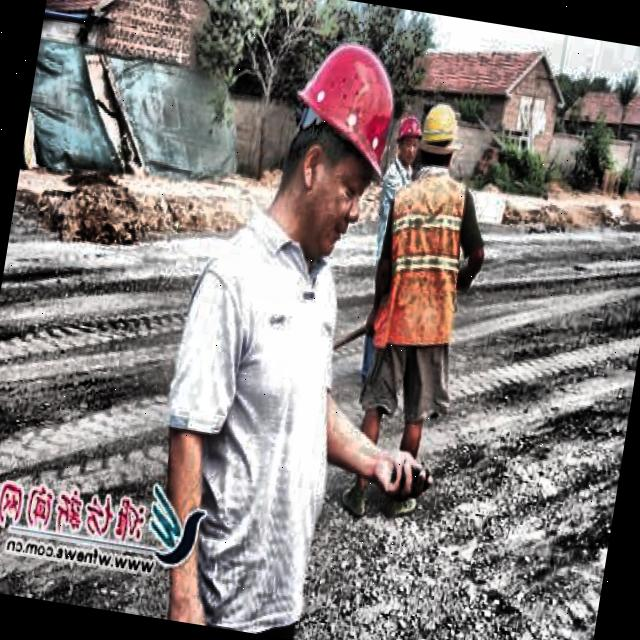helmet: (265, 32, 407, 266), (413, 96, 465, 176), (394, 110, 428, 164)
